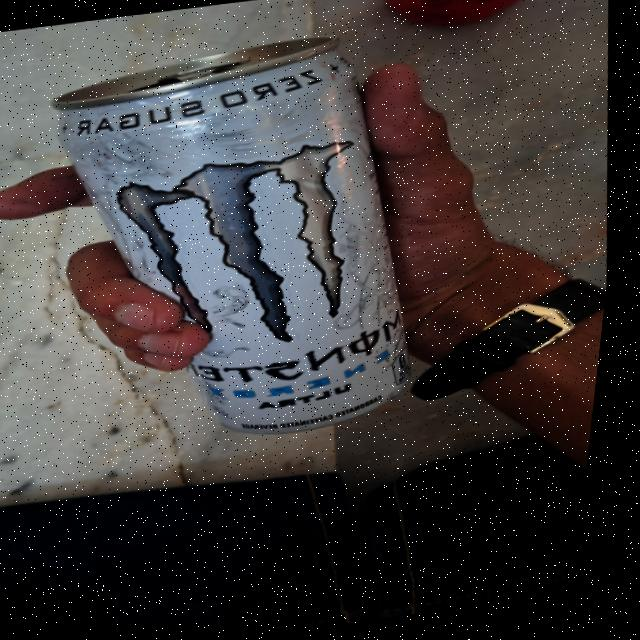White Monster: (14, 29, 433, 460)
